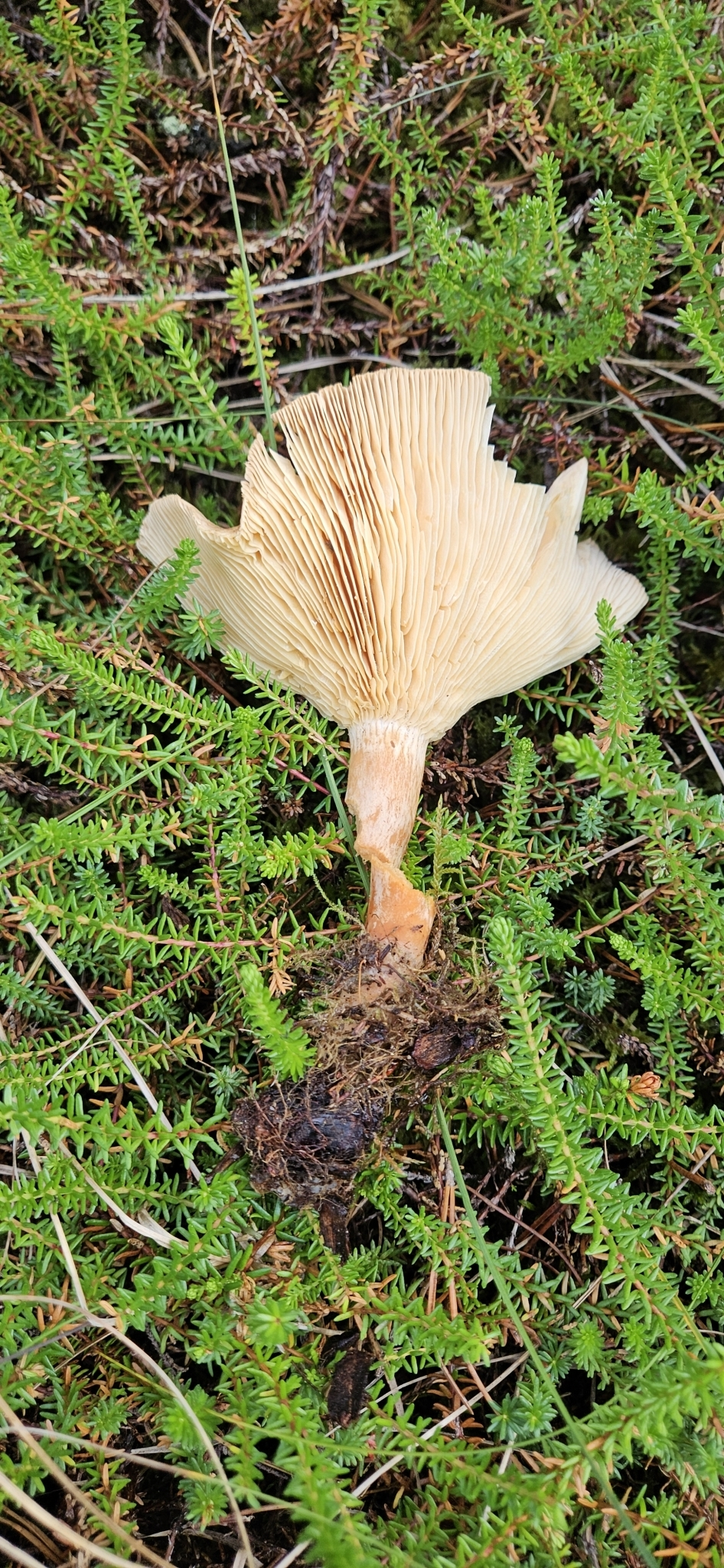Stem: (345, 718, 426, 867)
Underside: (138, 368, 646, 743)
